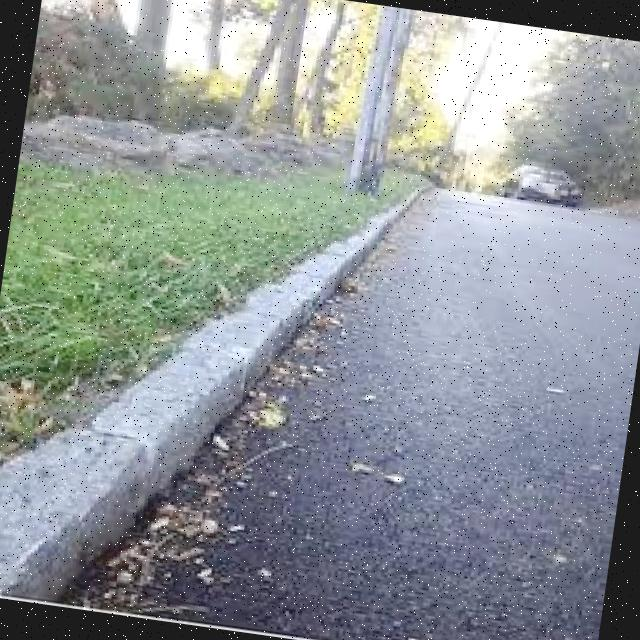curb: (1, 347, 251, 629), (208, 260, 348, 396), (347, 179, 438, 264)
